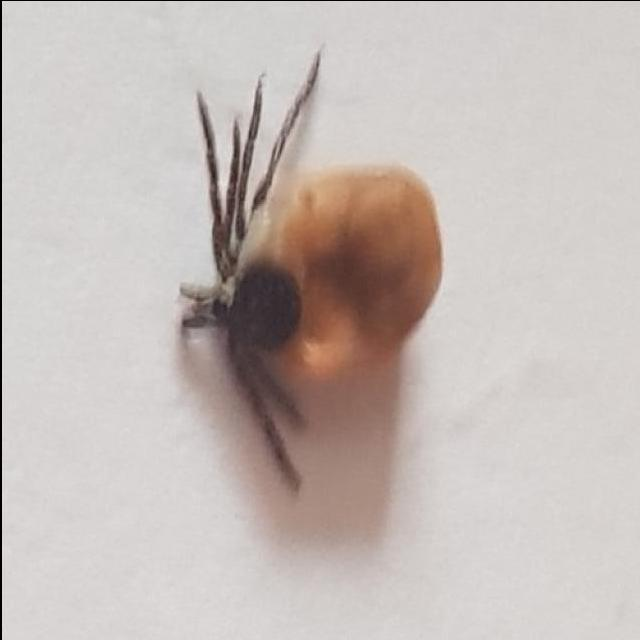Ixodes Ricinus-F-Fed: (177, 49, 440, 492)
